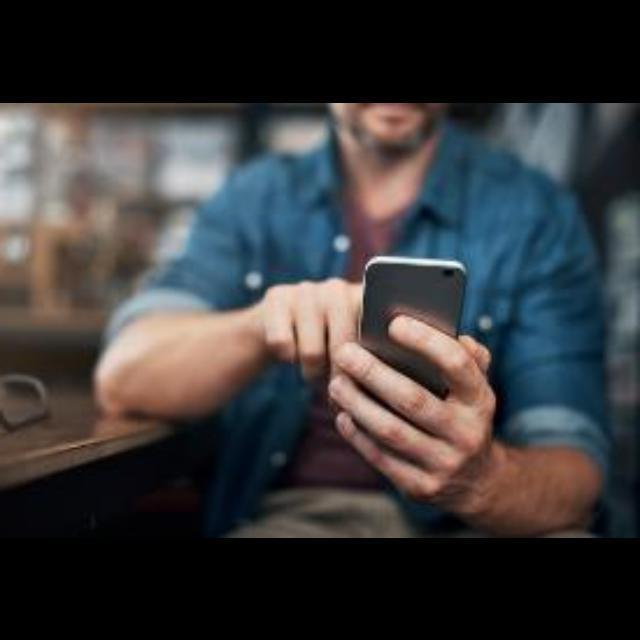phone: (352, 256, 462, 409)
